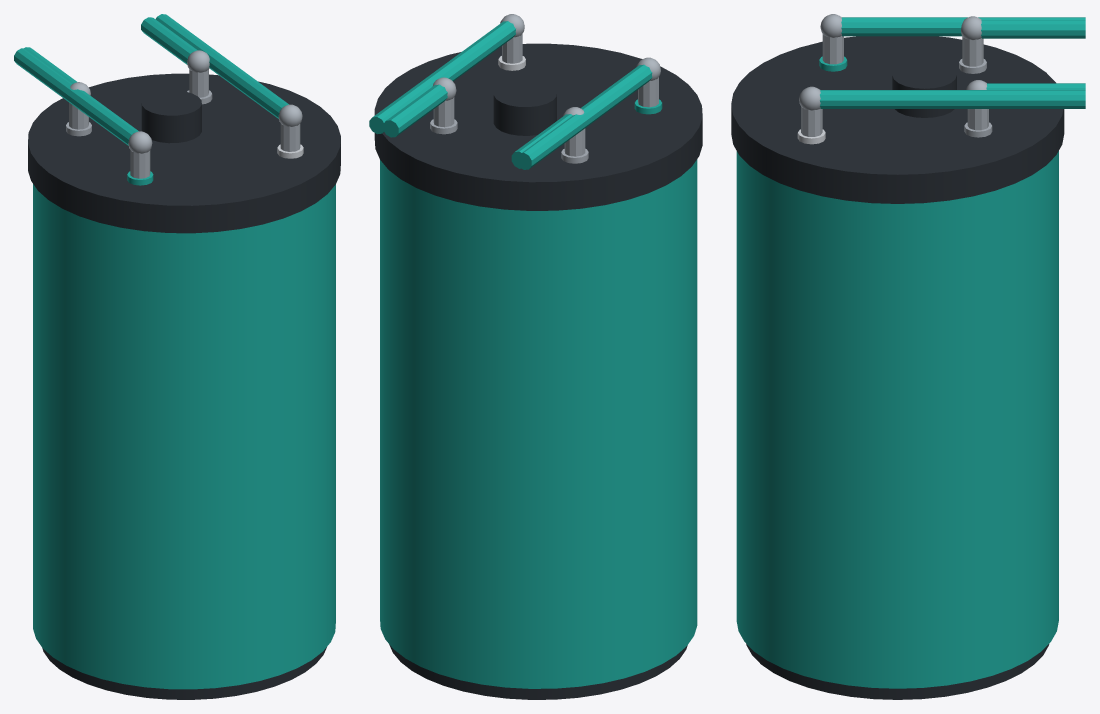
Rendered from hot-water-cylinder.glb.
3 views of the same model, side by side, from view 1: azimuth 30°, elevation 25°; view 2: azimuth 150°, elevation 25°; view 3: azimuth 270°, elevation 25° (orthographic). The views are drawn at different scales.
Visible parts, largest first — view 1: hot-water-cylinder; view 2: hot-water-cylinder; view 3: hot-water-cylinder.
Part boxes in pixels (x1,y1,x2,y2): hot-water-cylinder: [14, 14, 340, 699]; hot-water-cylinder: [369, 14, 702, 699]; hot-water-cylinder: [731, 14, 1085, 699].
Size of the model in its own units: 0.62 by 1.19 by 0.66.
